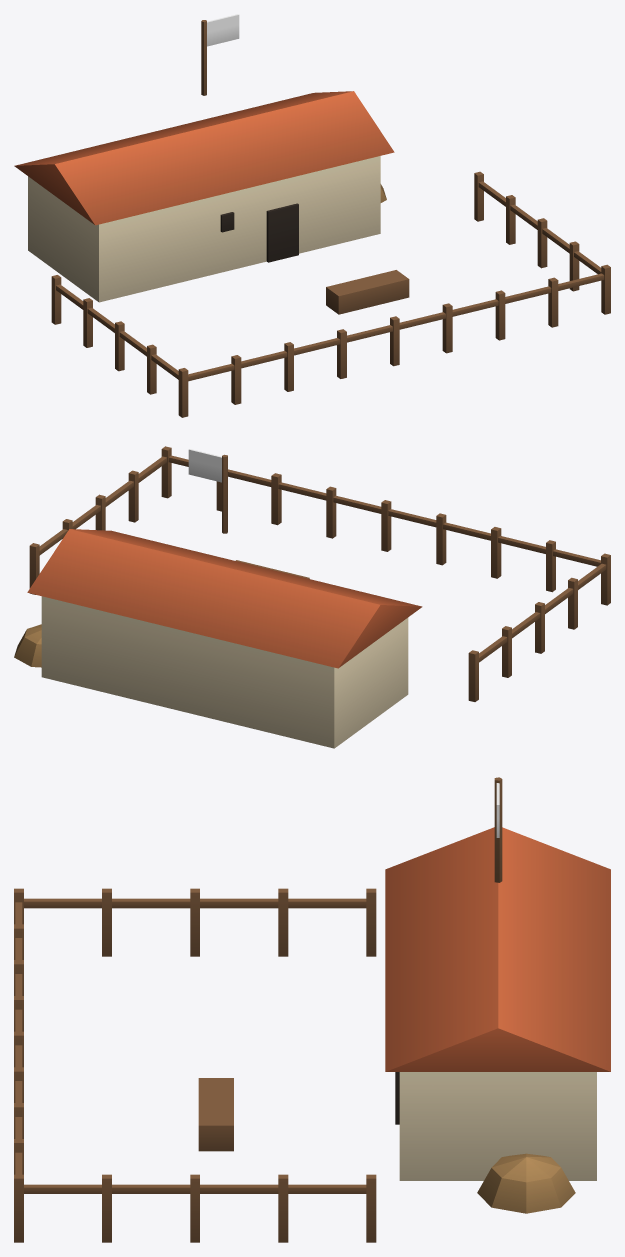
Rendered from STABLE_CARTH.glb.
3 views of the same model, one above another, from view 1: azimuth 30°, elevation 25°; view 2: azimuth 150°, elevation 25°; view 3: azimuth 270°, elevation 25° (orthographic). The views are drawn at different scales.
Parts seen in each view (by area): view 1: Body, Flag; view 2: Body, Flag; view 3: Body.
Part boxes in pixels (left/top/right/bottom): Body: left=14, top=20, right=610, bottom=417; Flag: left=207, top=14, right=239, bottom=46; Body: left=14, top=446, right=610, bottom=748; Flag: left=188, top=449, right=221, bottom=482; Body: left=14, top=777, right=610, bottom=1242.
Size of the model in its own units: 4.87 by 2.4 by 4.24.
Materials: 1 (1 with a texture image).
